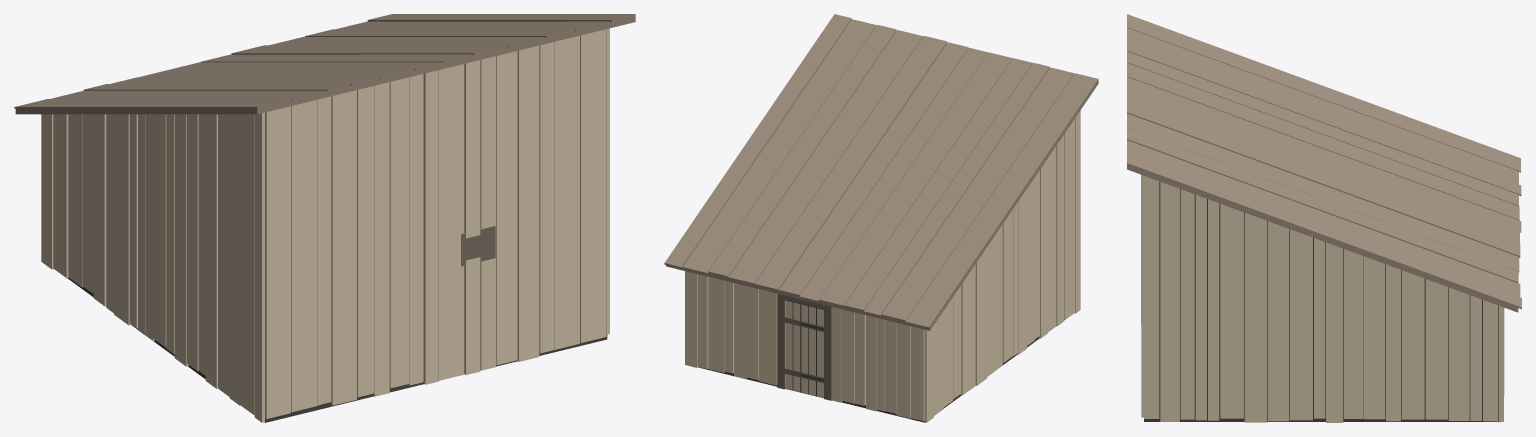
The model's file is recon_1835_blk_school_section_tier_82_d2_01__inferred_1835.glb.
3 renders of one model, left to right at view 1: azimuth 30°, elevation 25°; view 2: azimuth 150°, elevation 25°; view 3: azimuth 270°, elevation 25°, orthographic. The views are drawn at different scales.
Visible parts, largest first — view 1: recon_1835_blk_school_section_tier_82_d2_01__inferred_1835; view 2: recon_1835_blk_school_section_tier_82_d2_01__inferred_1835; view 3: recon_1835_blk_school_section_tier_82_d2_01__inferred_1835.
Part boxes in pixels (<box>): recon_1835_blk_school_section_tier_82_d2_01__inferred_1835: <box>14,14,635,422</box>; recon_1835_blk_school_section_tier_82_d2_01__inferred_1835: <box>664,14,1098,422</box>; recon_1835_blk_school_section_tier_82_d2_01__inferred_1835: <box>1127,14,1521,422</box>.
Bounding box in the file's own units: 5.78 × 4.8 × 6.45.
